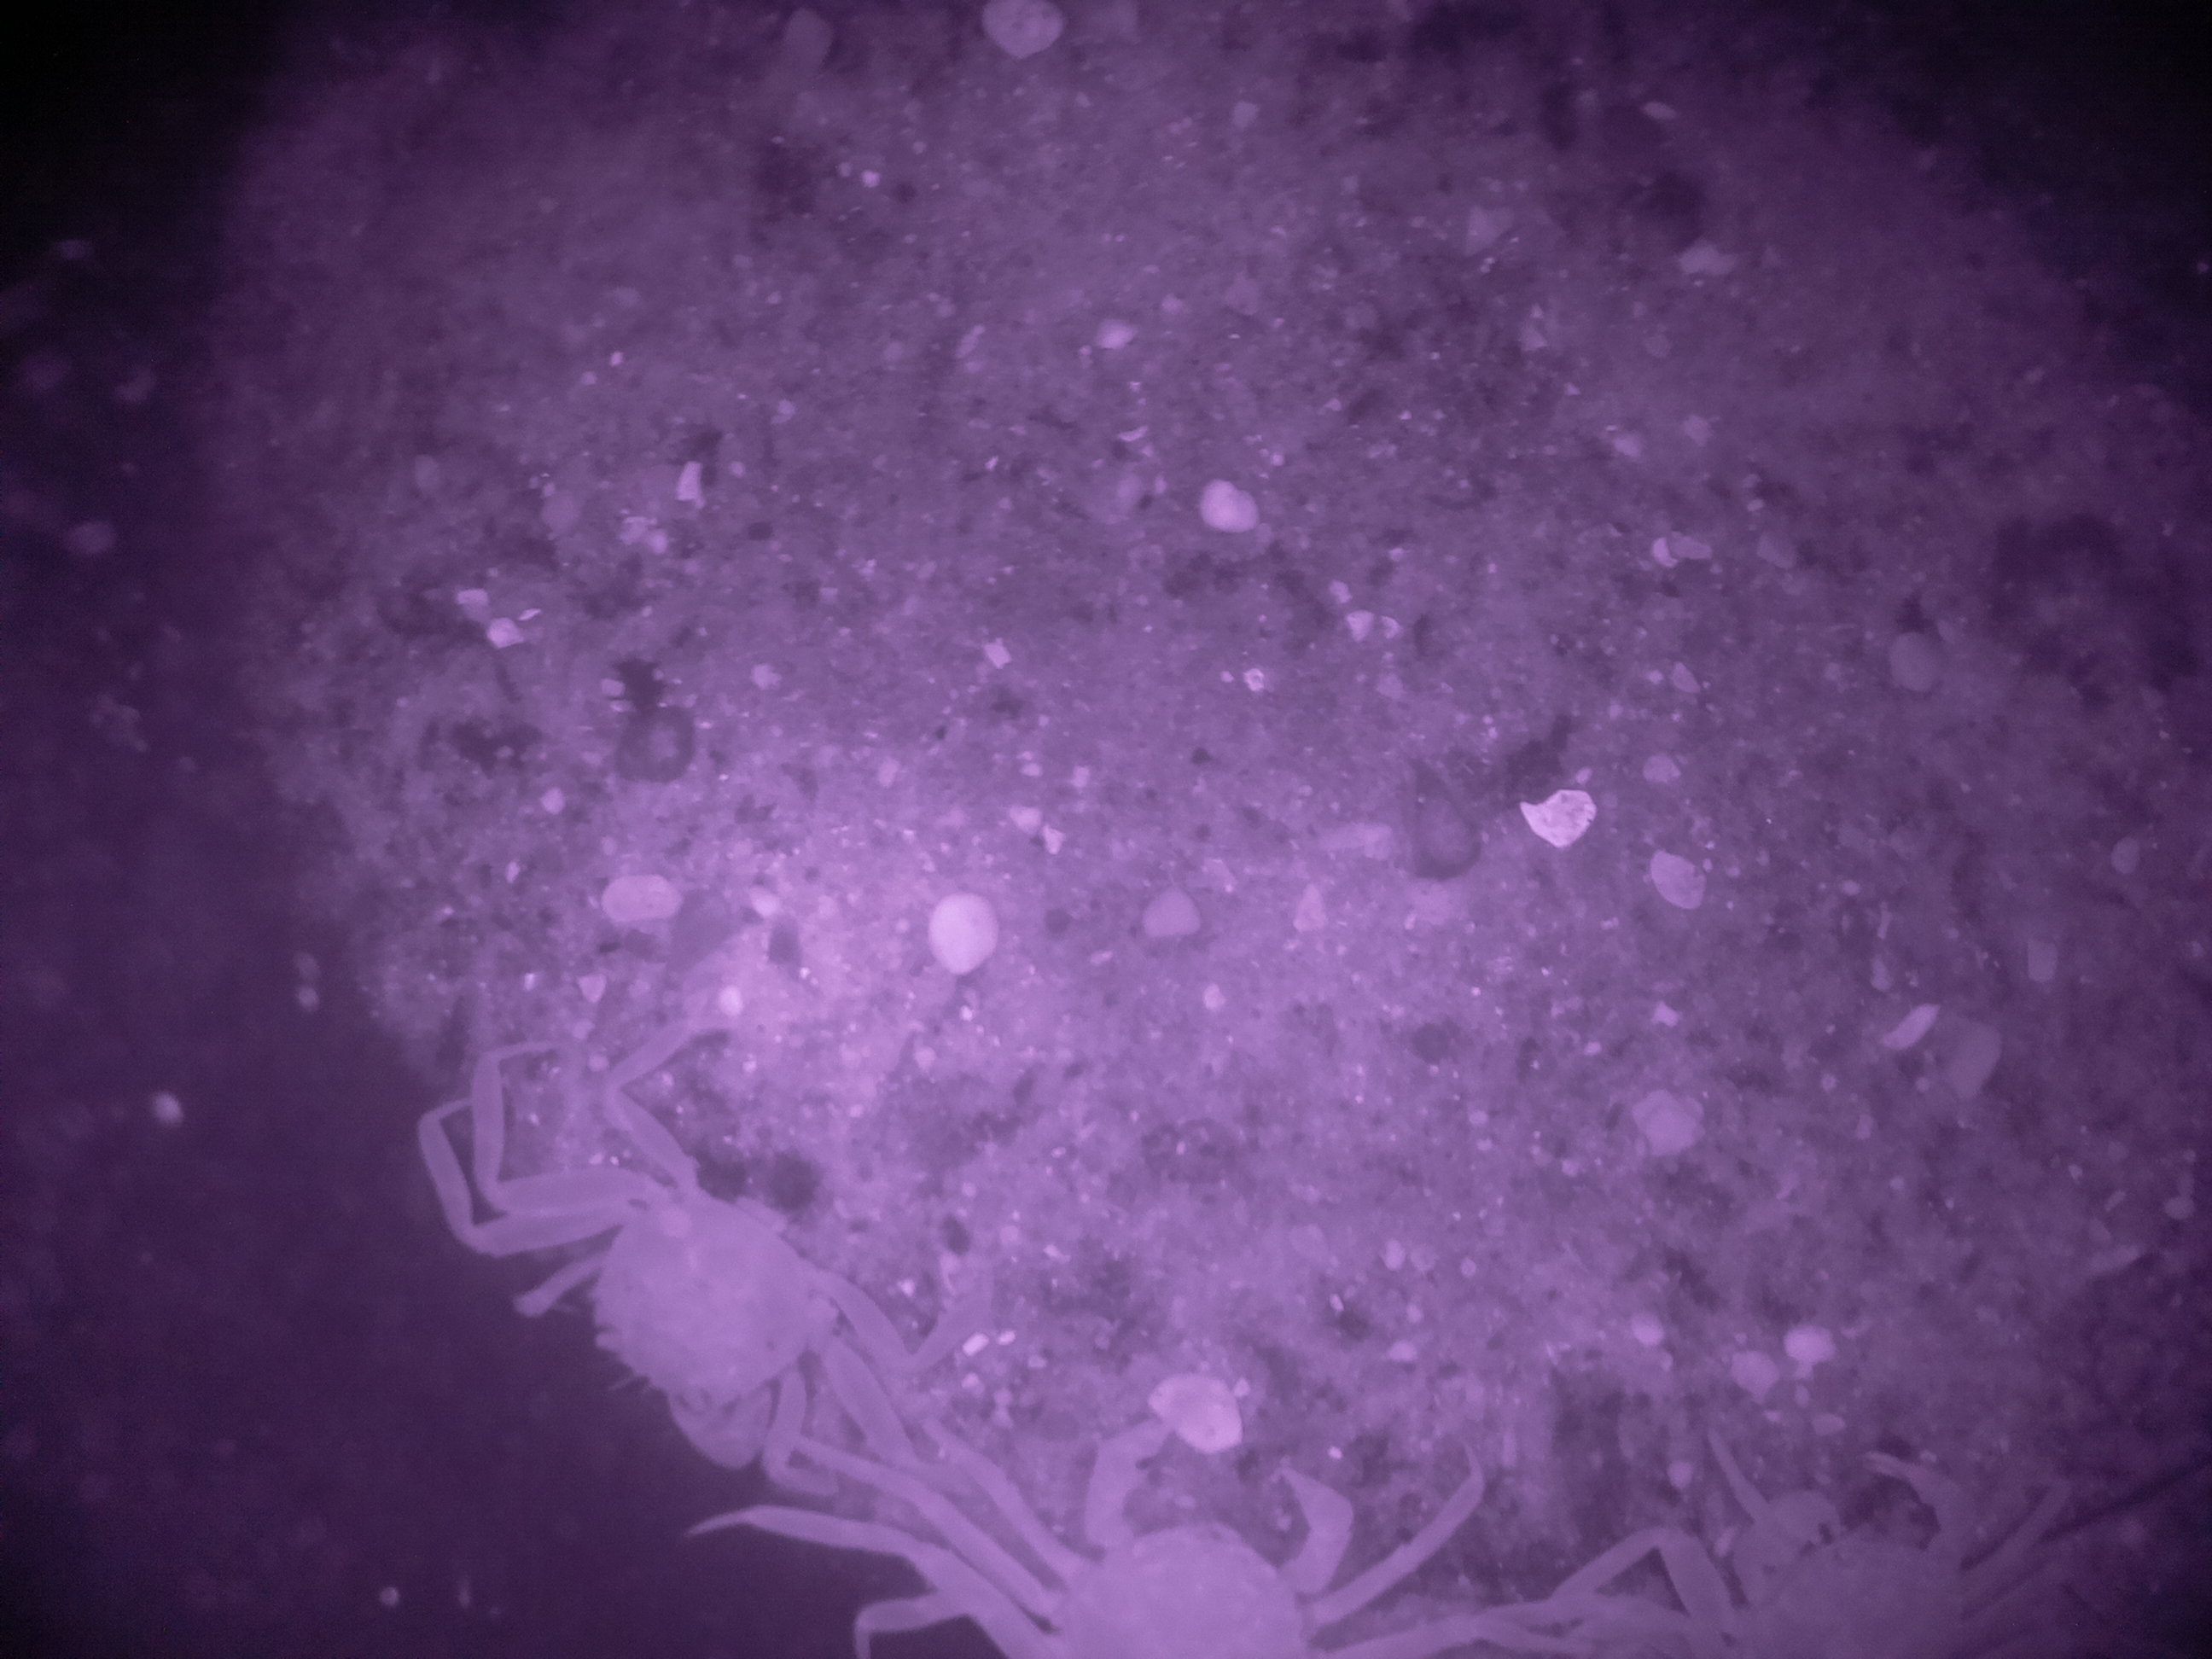Crab: (453, 1080, 1000, 1493)
